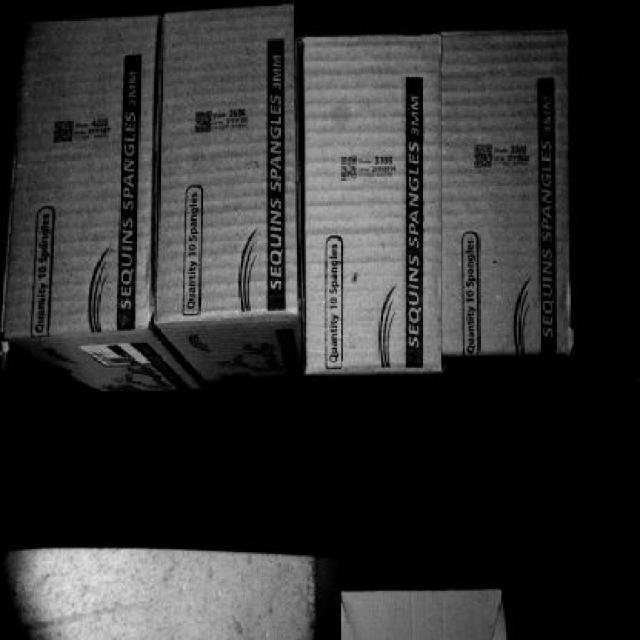cardboxes: (4, 15, 148, 334), (308, 39, 443, 372), (160, 14, 300, 328), (443, 39, 571, 346)
